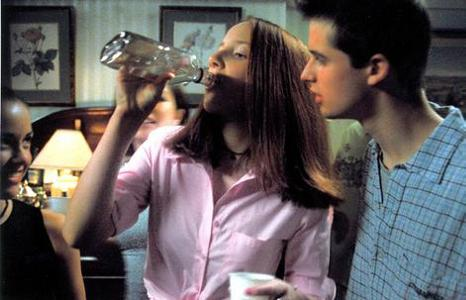person: (62, 19, 338, 300)
